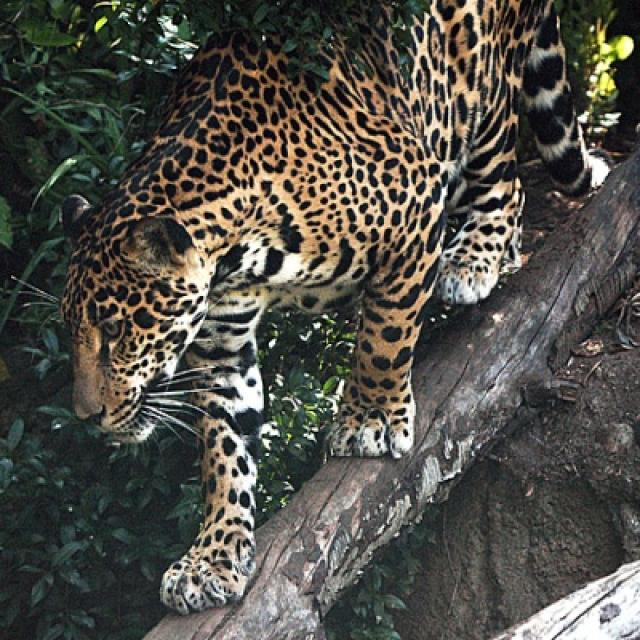Jaguar: (31, 0, 626, 633)
